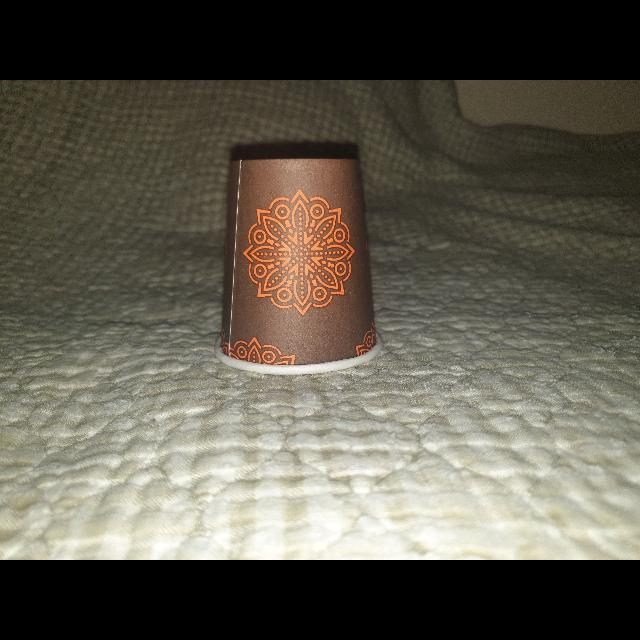trash: (218, 154, 382, 376)
